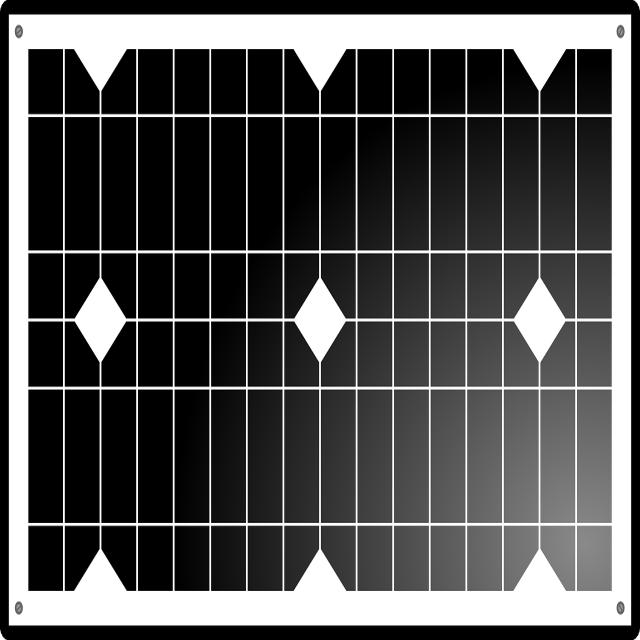clean-solar-panel: (175, 119, 209, 250)
